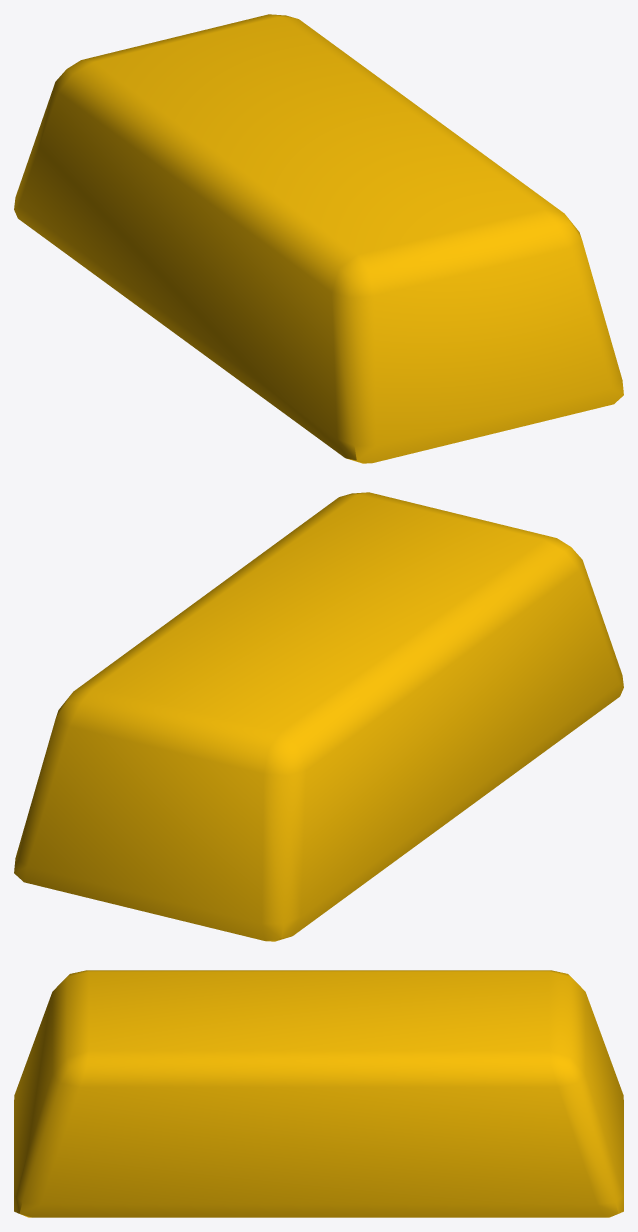
The model's file is Gold.fbx.
The picture shows the model from 3 angles, top to bottom: view 1: azimuth 30°, elevation 25°; view 2: azimuth 150°, elevation 25°; view 3: azimuth 270°, elevation 25°; orthographic projection. The views are drawn at different scales.
Parts seen in each view (by area): view 1: Gold; view 2: Gold; view 3: Gold.
Part boxes in pixels (left/top/right/bottom): Gold: left=14, top=14, right=623, bottom=463; Gold: left=14, top=492, right=623, bottom=941; Gold: left=14, top=970, right=623, bottom=1217.
Bounding box in the file's own units: 0.1008 × 0.0603 × 0.216.
